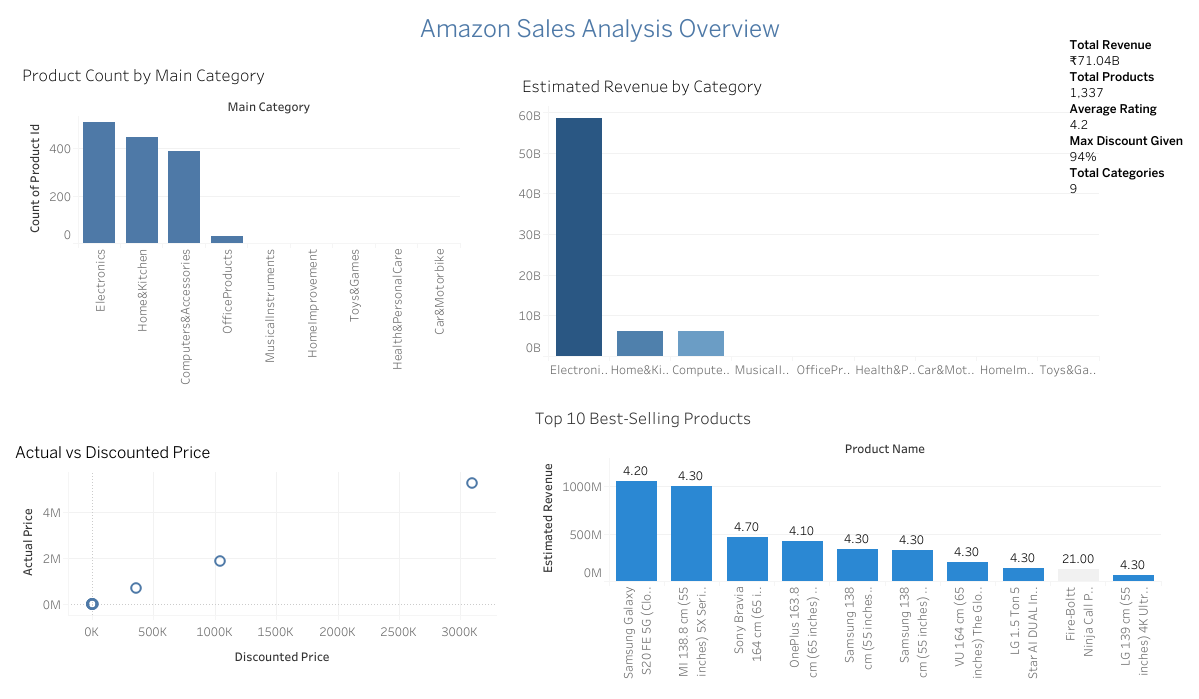

What the dashboard file says about the page in this screenshot:
{"tool":"tableau","page":{"name":"Dashboard 1","canvas":[1200,700],"ordinal":0},"visuals":[{"type":"title","box":[8,8,1184,39]},{"type":"text","box":[1067,27,134,180]},{"type":"worksheet","title":"Sheet 1","mark":"Automatic","rows":["product_id"],"cols":["main_category"],"box":[18,57,442,346]},{"type":"worksheet","title":"Sheet 4","mark":"Automatic","rows":["estimated_revenue"],"cols":["main_category"],"box":[518,68,581,310]},{"type":"worksheet","title":"Sheet 5","mark":"Automatic","rows":["estimated_revenue"],"cols":["product_name"],"box":[531,400,630,281]},{"type":"worksheet","title":"Sheet 3","mark":"Automatic","rows":["actual_price"],"cols":["discounted_price"],"box":[11,435,485,237]}]}

Visuals, with their boxes in screenshot pixels (x1, y1, x2, y2), scaled from the page's 1200x700 canvas onto the 1199x699 screenshot:
title: (x1=8, y1=8, x2=1191, y2=47)
text: (x1=1066, y1=27, x2=1198, y2=207)
"Sheet 1" worksheet: (x1=18, y1=57, x2=460, y2=402)
"Sheet 4" worksheet: (x1=518, y1=68, x2=1098, y2=377)
"Sheet 5" worksheet: (x1=531, y1=399, x2=1160, y2=680)
"Sheet 3" worksheet: (x1=11, y1=434, x2=496, y2=671)
